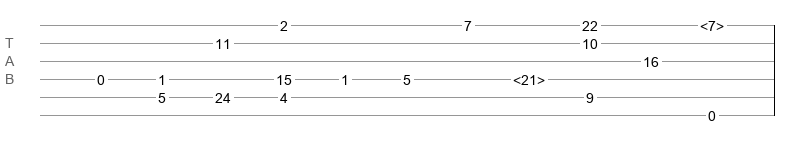0: (97, 72, 105, 82), (708, 108, 716, 118)
1: (158, 72, 166, 82), (341, 72, 349, 82)
10: (582, 36, 598, 46)
11: (215, 36, 231, 46)
15: (276, 72, 292, 82)
16: (643, 54, 659, 64)
2: (280, 18, 288, 28)
22: (582, 18, 598, 28)
24: (215, 90, 231, 100)
4: (280, 90, 288, 100)
5: (158, 90, 166, 100), (403, 72, 411, 82)
7: (464, 18, 472, 28)
9: (586, 90, 594, 100)
harmonic: (513, 72, 545, 82), (700, 18, 724, 28)
